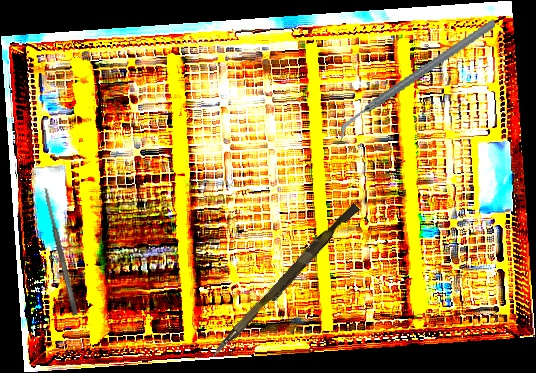Chopper: (322, 18, 512, 141)
Pusher: (209, 199, 361, 364)
Spatula Surgical: (42, 186, 79, 317)
